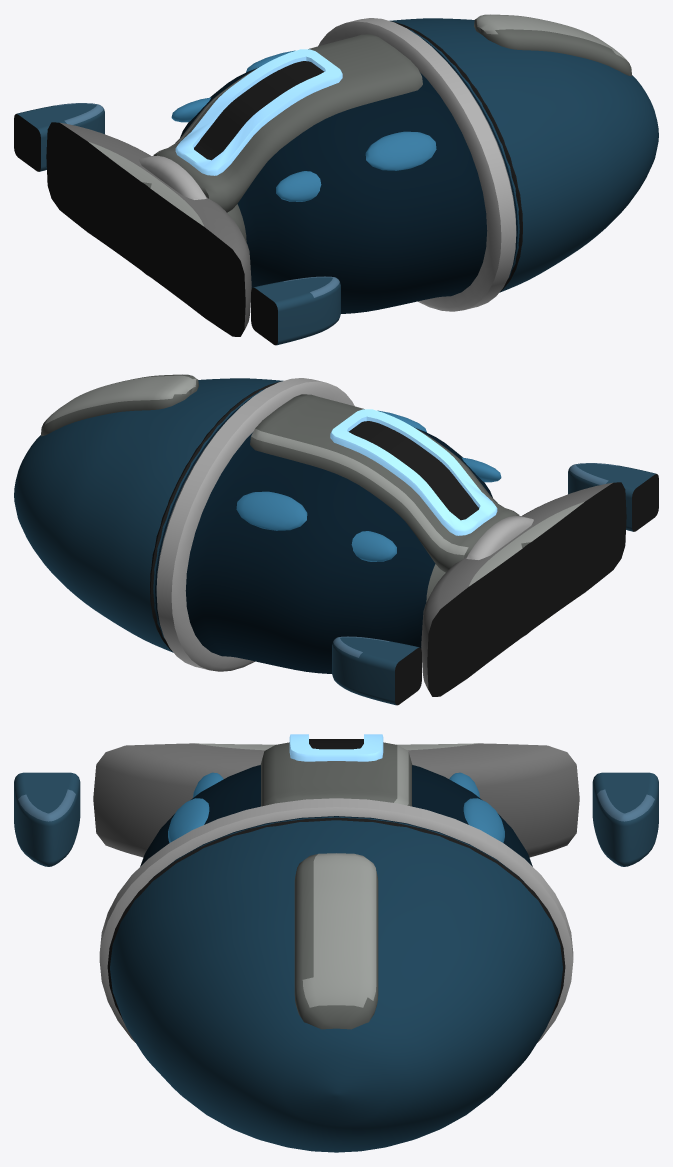
The model's file is ringship_pod_r.glb.
3 views of the same model, one above another, from view 1: azimuth 30°, elevation 25°; view 2: azimuth 150°, elevation 25°; view 3: azimuth 270°, elevation 25° (orthographic). The views are drawn at different scales.
Visible parts, largest first — view 1: body_m.001, ring_m.001, rail_m.001, collar_m.001, window_m.001, claw.001_m.001, pod_rod_m.001, slot_m.001, claw_m.001, tab0_-1_m.001, flange_m.001, sphere_m.001 (+3 smaller); view 2: body_m.001, ring_m.001, rail_m.001, collar_m.001, window_m.001, claw_m.001, pod_rod_m.001, slot_m.001, claw.001_m.001, tab0_1_m.001, flange_m.001, groove_m.001 (+3 smaller); view 3: body_m.001, ring_m.001, pod_rod_m.001, collar_m.001, rail_m.001, claw.001_m.001, claw_m.001, groove_m.001, window_m.001, tab0_1_m.001, tab0_-1_m.001.
Part boxes in pixels (x1,y1,x2,y2): body_m.001: (111, 18, 658, 313); ring_m.001: (46, 122, 251, 336); rail_m.001: (153, 34, 422, 212); collar_m.001: (318, 18, 516, 311); window_m.001: (175, 49, 342, 175); claw.001_m.001: (251, 276, 340, 345); pod_rod_m.001: (474, 14, 631, 76); slot_m.001: (194, 61, 324, 160); claw_m.001: (14, 103, 104, 171); tab0_-1_m.001: (365, 131, 436, 170); flange_m.001: (139, 155, 206, 199); sphere_m.001: (121, 184, 170, 276); body_m.001: (14, 378, 561, 673); ring_m.001: (421, 482, 626, 696); rail_m.001: (250, 394, 519, 572); collar_m.001: (156, 378, 354, 671); window_m.001: (330, 409, 497, 535); claw_m.001: (332, 636, 421, 705); pod_rod_m.001: (41, 374, 198, 436); slot_m.001: (348, 421, 478, 520); claw.001_m.001: (568, 463, 658, 531); tab0_1_m.001: (236, 491, 307, 530); flange_m.001: (466, 515, 533, 559); groove_m.001: (150, 381, 281, 651); body_m.001: (110, 765, 562, 1152); ring_m.001: (93, 743, 579, 857); pod_rod_m.001: (294, 853, 378, 1029); collar_m.001: (99, 798, 573, 1042); rail_m.001: (260, 742, 412, 806); claw.001_m.001: (14, 772, 80, 866); claw_m.001: (592, 772, 658, 866); groove_m.001: (107, 817, 565, 1021); window_m.001: (289, 734, 383, 761); tab0_1_m.001: (463, 798, 504, 842); tab0_-1_m.001: (168, 798, 209, 842).
Bounding box in the file's own units: 21.73 × 10.58 × 20.02.
